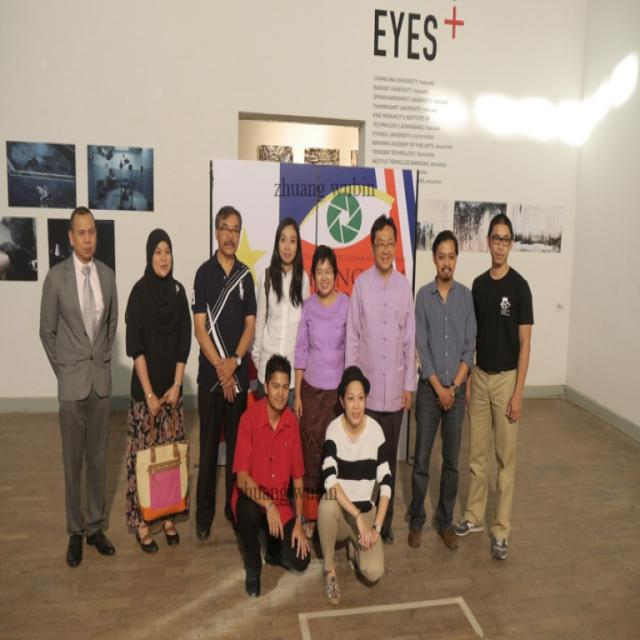body: (0, 134, 570, 270), (448, 210, 538, 564), (37, 204, 120, 568), (341, 210, 418, 548), (188, 203, 260, 545), (404, 227, 479, 552), (122, 224, 193, 555), (226, 349, 313, 599), (314, 364, 396, 606), (291, 242, 352, 544), (249, 214, 313, 411)
